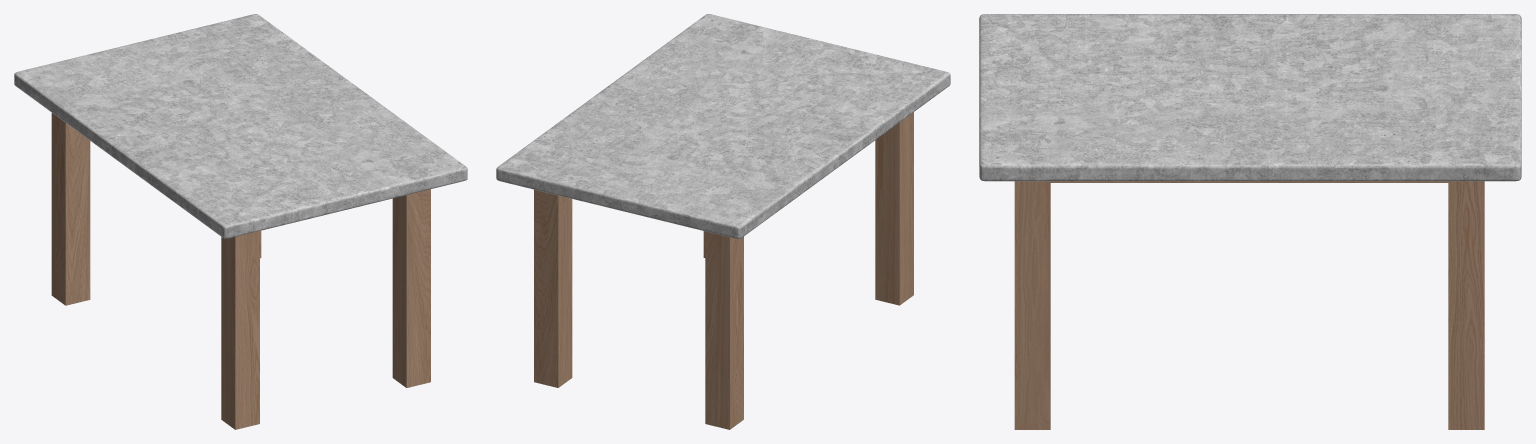
Rendered from table.glb.
3 views of the same model, side by side, from view 1: azimuth 30°, elevation 25°; view 2: azimuth 150°, elevation 25°; view 3: azimuth 270°, elevation 25° (orthographic). The views are drawn at different scales.
Parts seen in each view (by area): view 1: Cube.001, Cube; view 2: Cube.001, Cube; view 3: Cube.001, Cube.
Part boxes in pixels (box(x1,y1,x2,y2)): Cube.001: box(14, 14, 467, 238); Cube: box(51, 113, 430, 429); Cube.001: box(496, 14, 950, 238); Cube: box(534, 112, 913, 429); Cube.001: box(979, 14, 1521, 181); Cube: box(1014, 181, 1484, 429).
Bounding box in the file's own units: 2 × 1.71 × 3.
2 materials, 2 textured.
